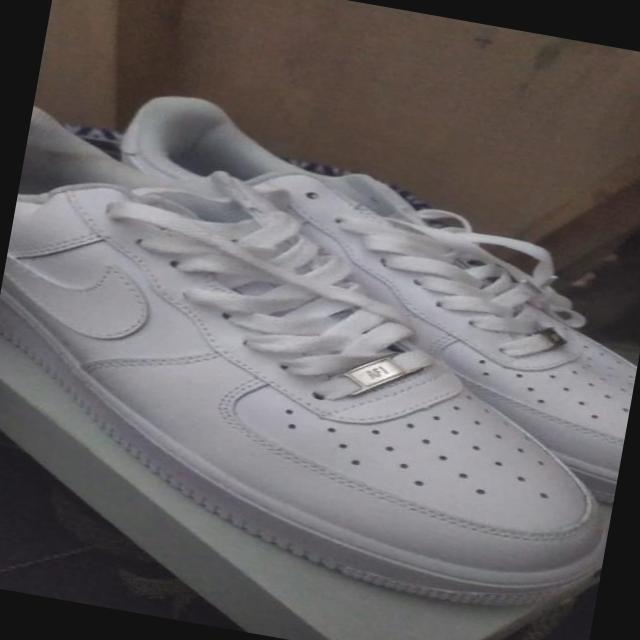nike_original_airforce: (0, 104, 640, 633), (69, 81, 640, 509)
